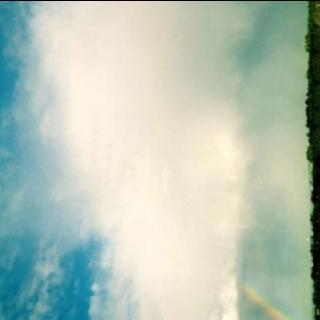Cumulonimbus: (1, 0, 300, 320)
